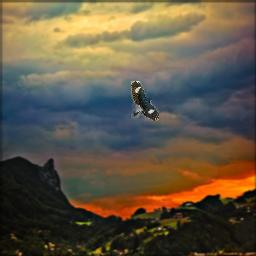Woodpecker: (131, 81, 159, 121)
